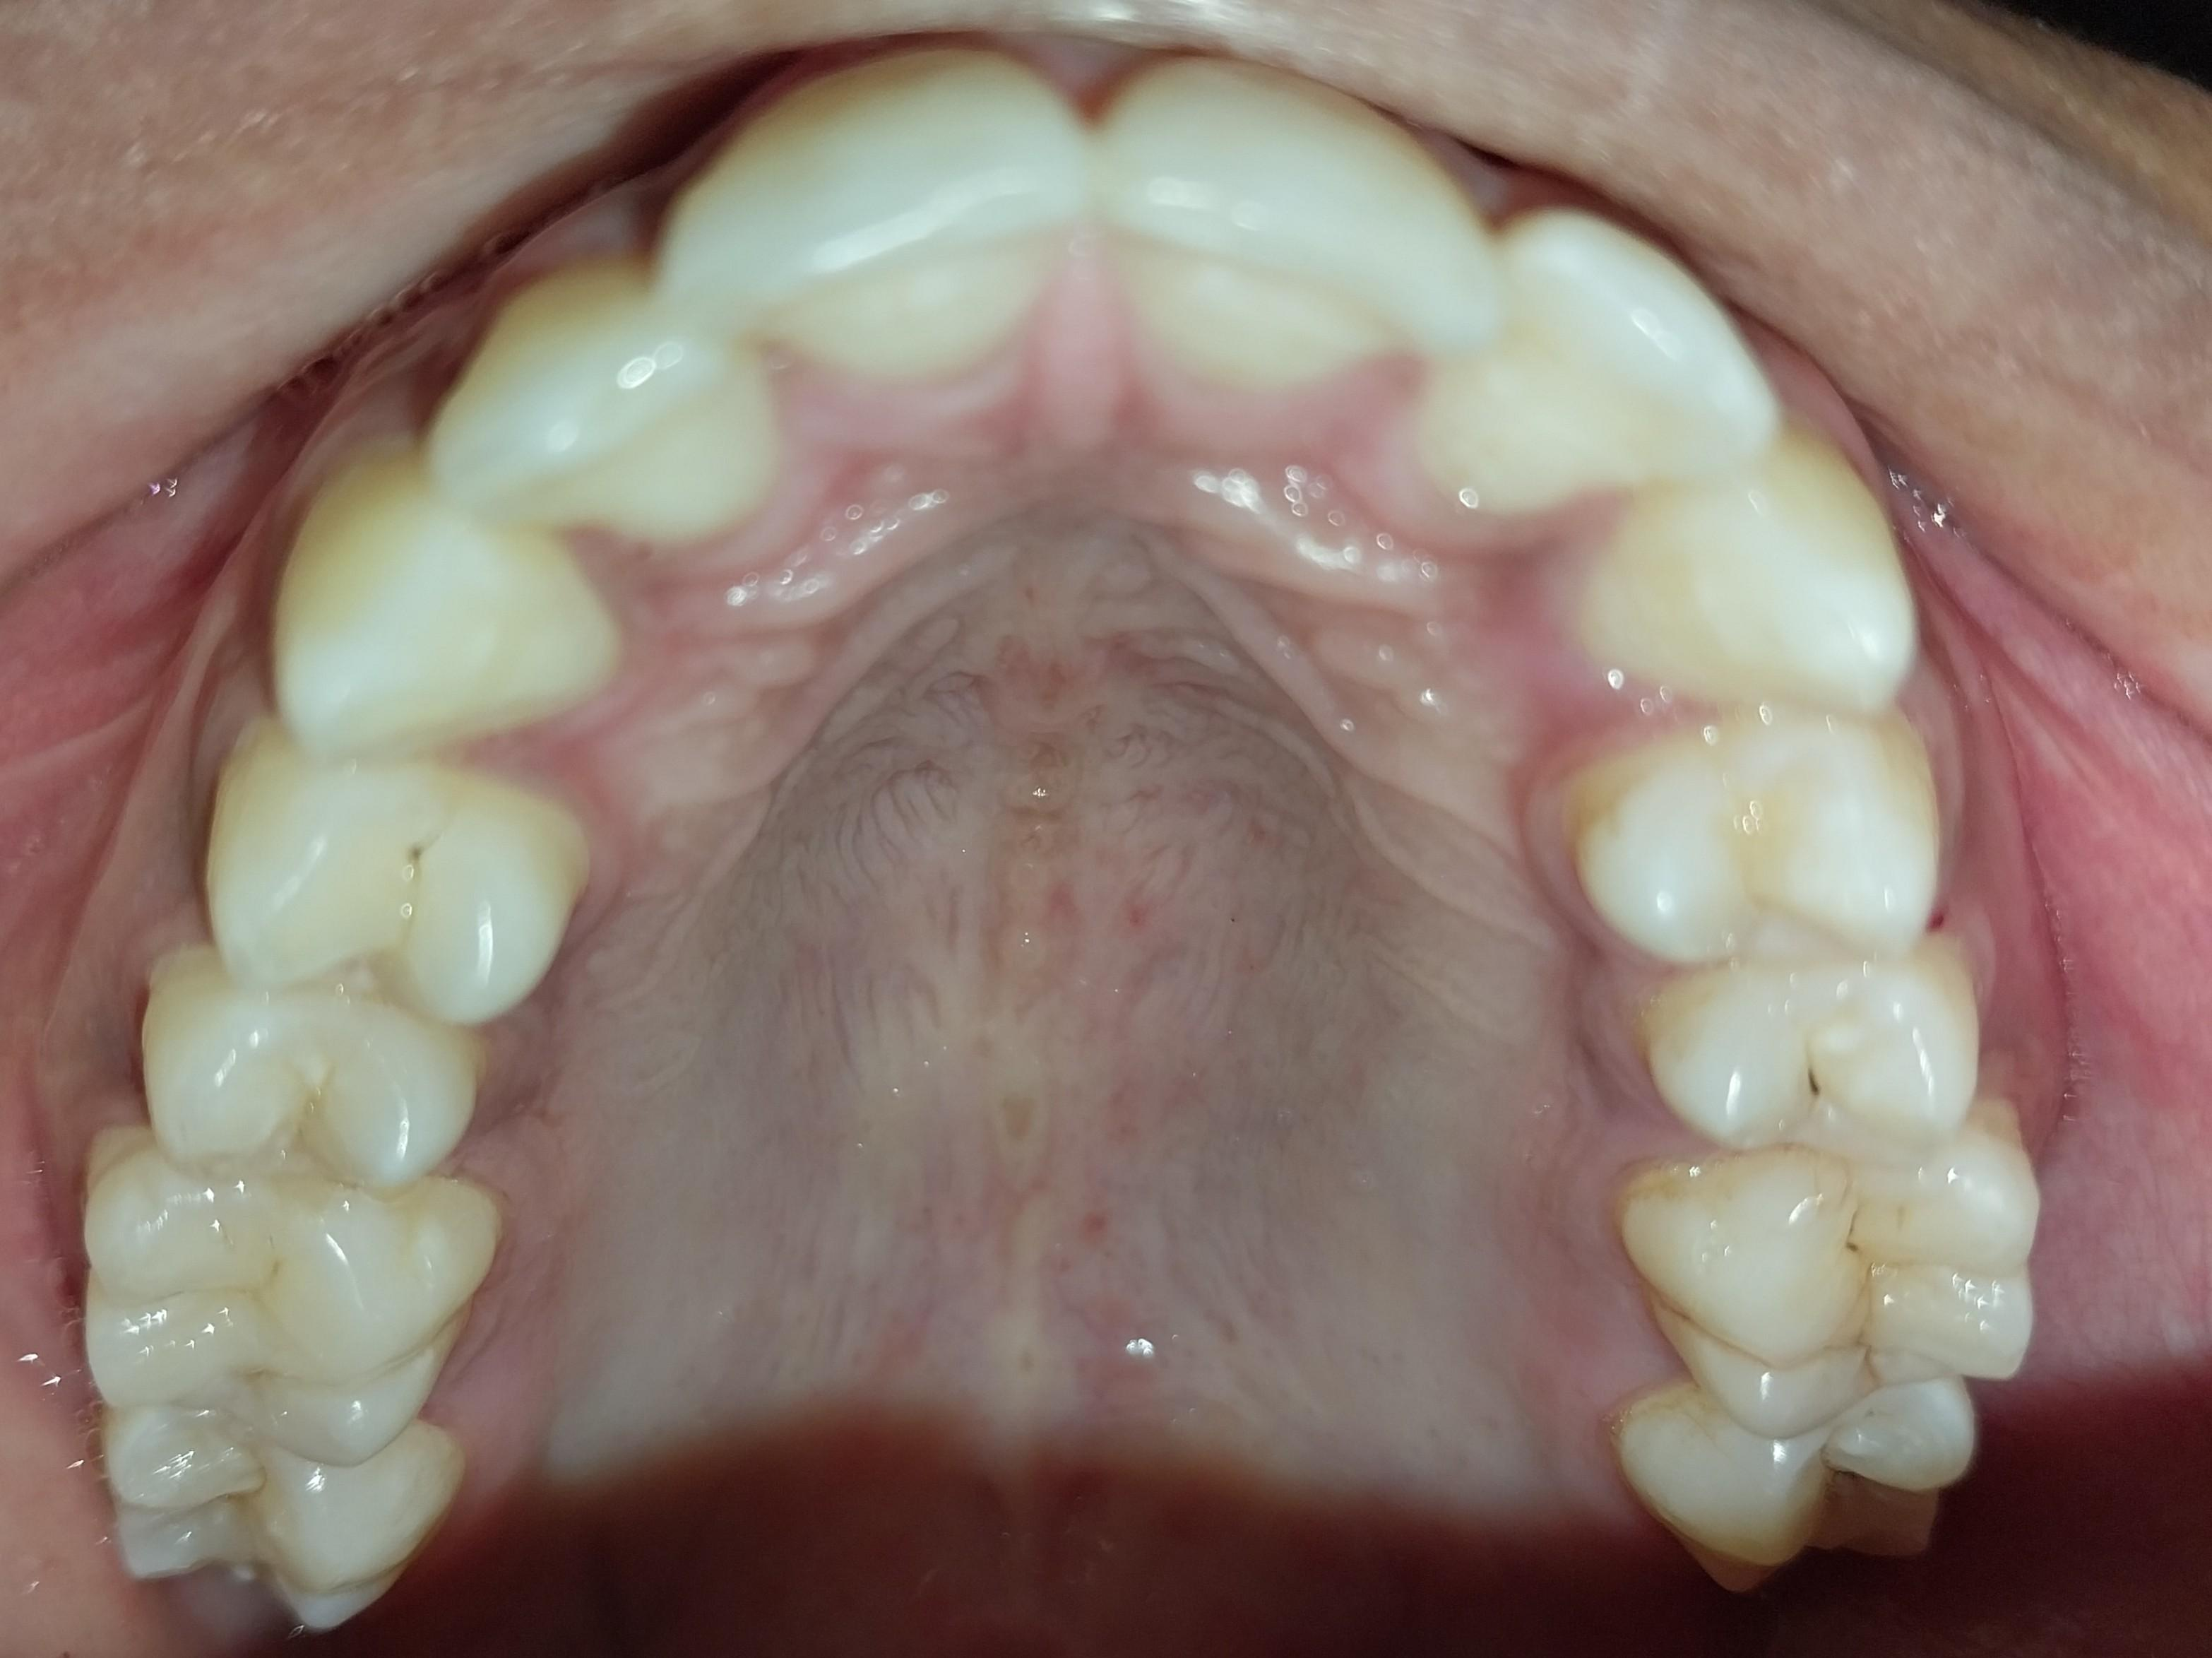D: (1663, 970, 1990, 1156)
